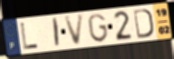2: (112, 10, 135, 43)
D: (132, 8, 155, 40)
G: (87, 12, 110, 43)
I: (53, 17, 61, 49)
L: (19, 22, 39, 51)
V: (63, 13, 86, 48)
